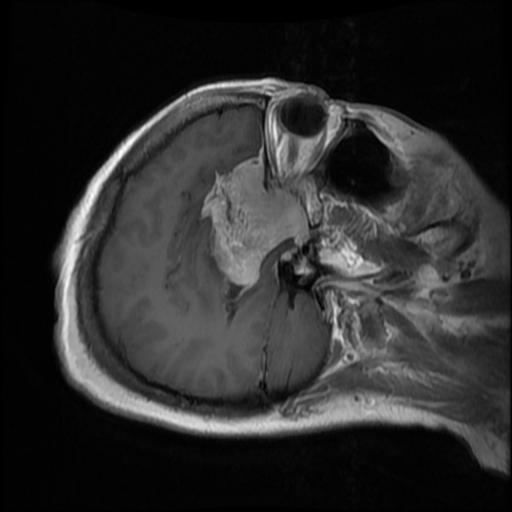meningioma: (197, 156, 309, 290)
